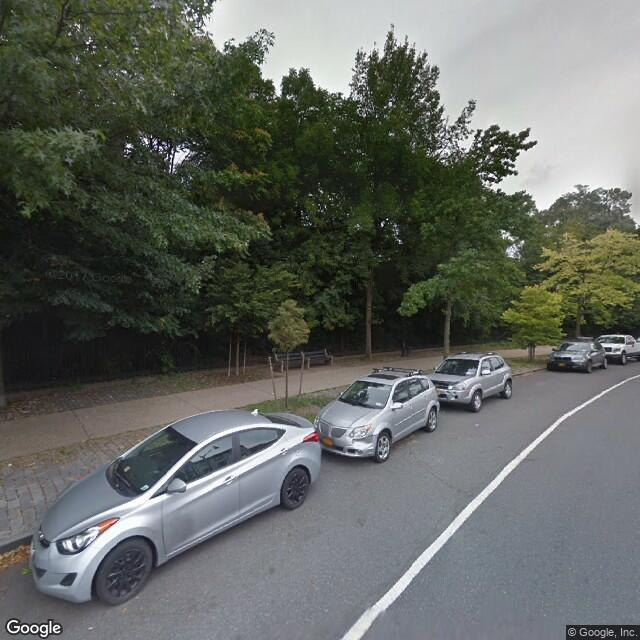litter: (87, 625, 95, 630), (8, 464, 13, 467), (476, 423, 481, 425)
